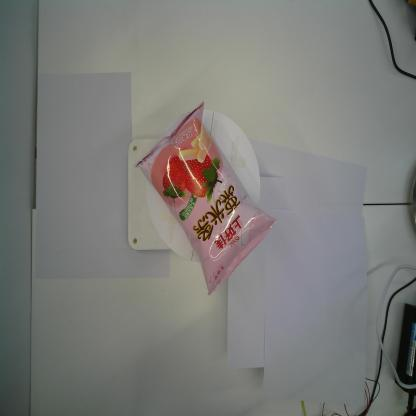Puffed Food: (130, 101, 276, 298)
